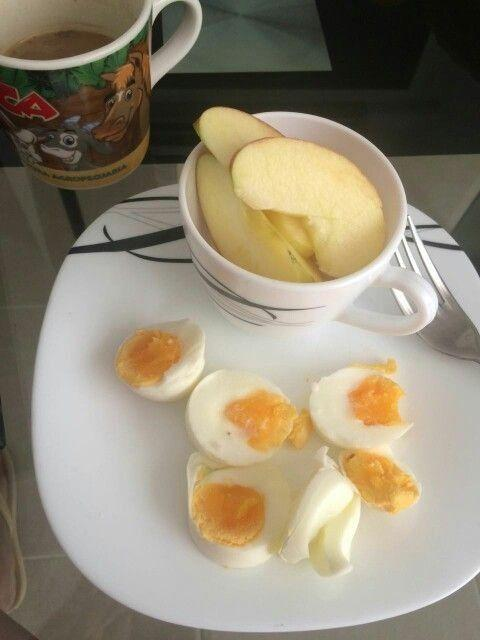eggs: (131, 296, 408, 571)
